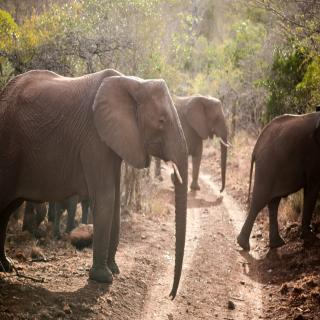Elephant: (0, 67, 190, 306), (236, 102, 320, 257), (154, 91, 232, 198)
